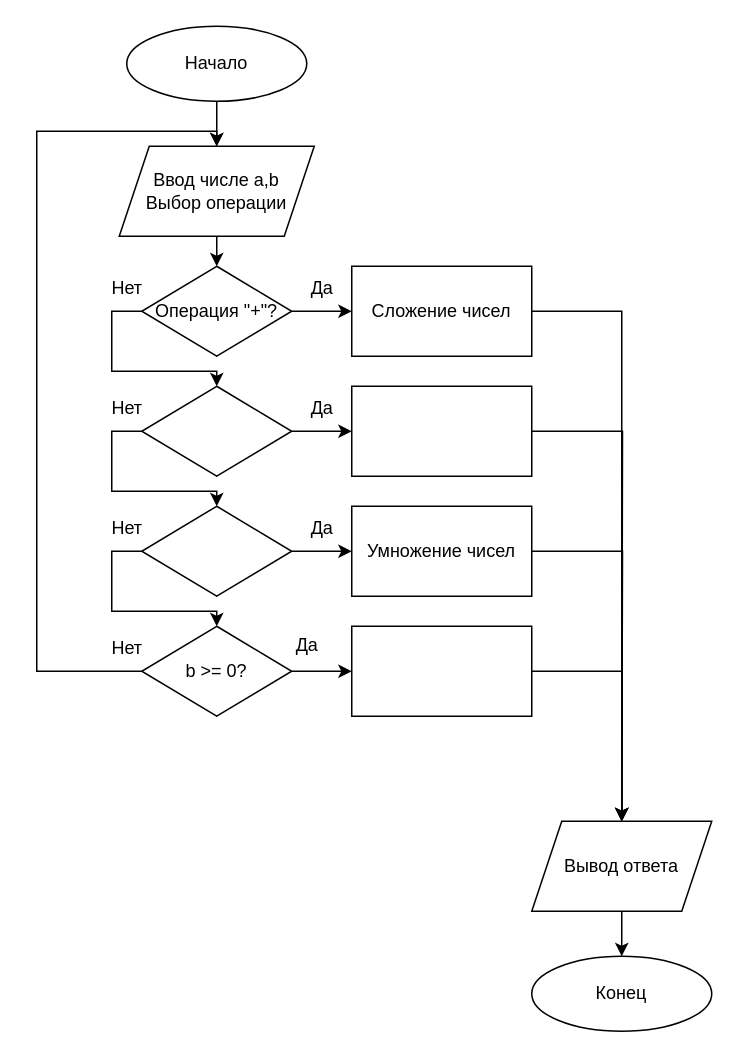
The diagram is 738 pixels wide and 1058 high, and some of its shapes have lost their labels. The shapes that lost their labels are listed below. From the top down, each one's box as (x1, y1, x2, y2) in pixels, then its label:
(140, 385, 292, 476): Операция "-"?
(350, 385, 532, 476): Вычитание чисел
(140, 505, 292, 596): Операция "*"?
(350, 625, 532, 716): Деление чисел
